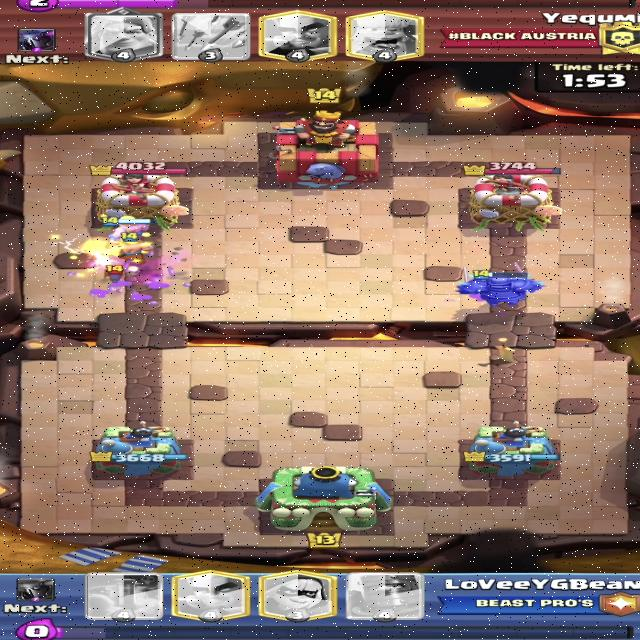Enemy-Bat: (104, 265, 127, 284)
Player-Barbarian: (100, 215, 159, 240), (115, 232, 153, 259)
Player-PEKKA: (456, 269, 545, 306)
